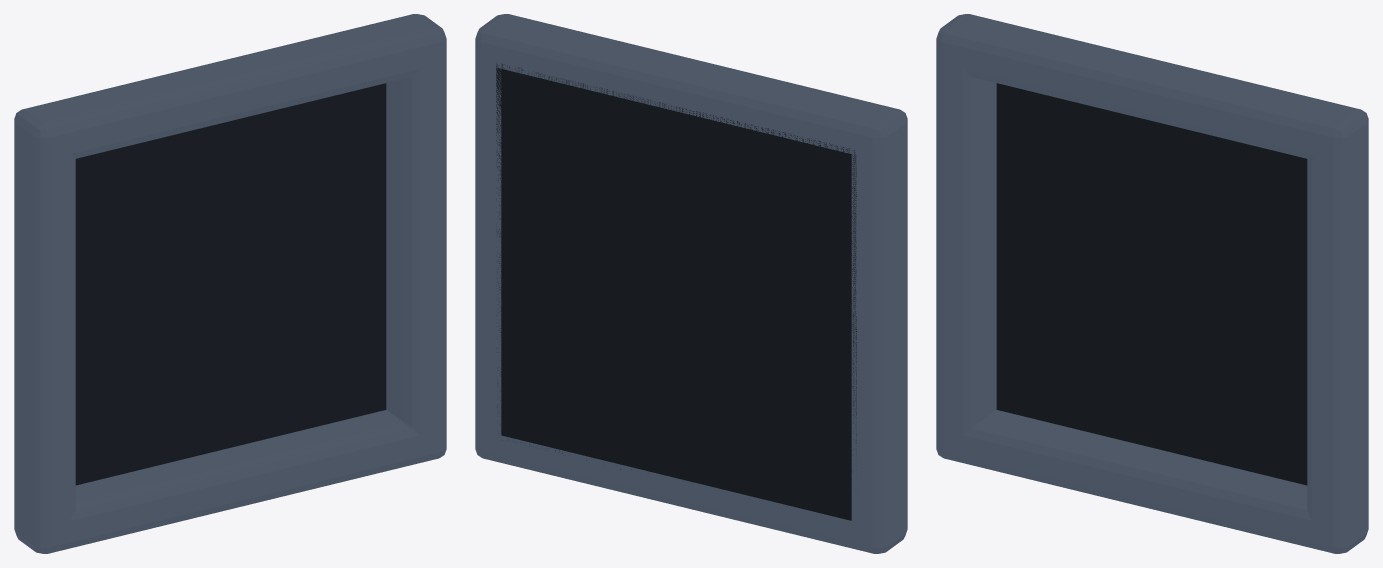
Rendered from tecla_base.glb.
3 views of the same model, side by side, from view 1: azimuth 30°, elevation 25°; view 2: azimuth 150°, elevation 25°; view 3: azimuth 330°, elevation 25° (orthographic).
Parts seen in each view (by area): view 1: Cube.124, Cube.121, Cube.122, Cube.123, Cube.120; view 2: Cube.124, Cube.121, Cube.122, Cube.120, Cube.123; view 3: Cube.124, Cube.121, Cube.123, Cube.120, Cube.122.
Boxes of the visible parts, <box> form: Cube.124: <box>75,83,386,485</box>; Cube.121: <box>14,15,446,159</box>; Cube.122: <box>14,104,75,553</box>; Cube.123: <box>386,14,446,462</box>; Cube.120: <box>14,410,446,553</box>; Cube.124: <box>496,62,856,520</box>; Cube.121: <box>475,14,907,159</box>; Cube.122: <box>851,104,907,552</box>; Cube.120: <box>475,427,907,553</box>; Cube.123: <box>475,14,526,462</box>; Cube.124: <box>996,83,1307,485</box>; Cube.121: <box>936,19,1368,159</box>; Cube.123: <box>1307,104,1368,552</box>; Cube.120: <box>936,410,1368,553</box>; Cube.122: <box>936,14,996,463</box>.
Bounding box in the file's own units: 0.08 × 0.08 × 0.01.
